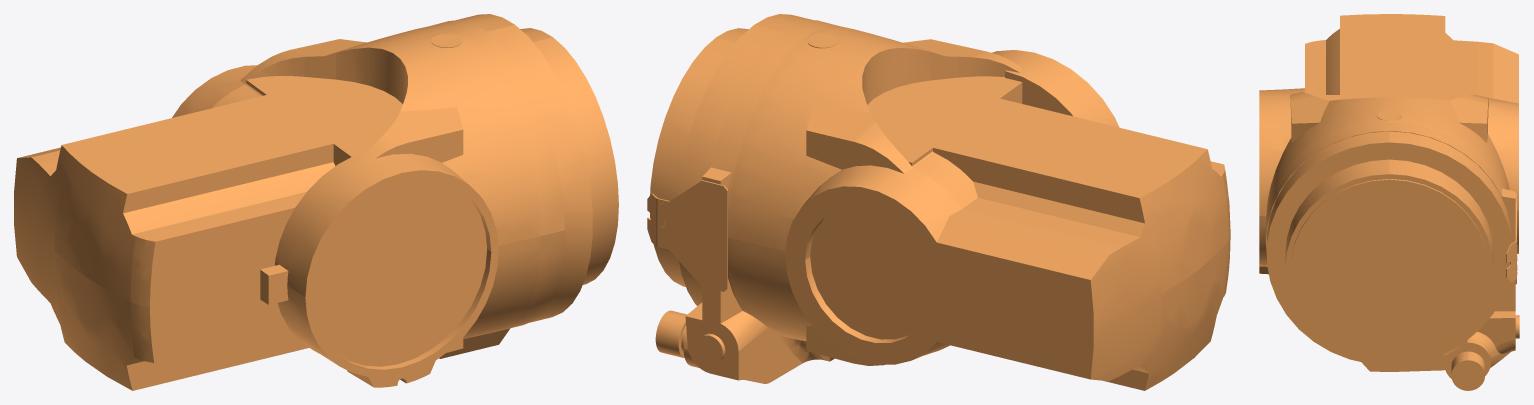
3 renders of one model, left to right at view 1: azimuth 30°, elevation 25°; view 2: azimuth 150°, elevation 25°; view 3: azimuth 270°, elevation 25°, orthographic. The views are drawn at different scales.
Parts seen in each view (by area): view 1: mesh_0; view 2: mesh_0; view 3: mesh_0.
Boxes of the visible parts, x1=… form: mesh_0: x1=14, y1=14, x2=618, y2=390; mesh_0: x1=647, y1=14, x2=1230, y2=390; mesh_0: x1=1259, y1=14, x2=1519, y2=390.
Bounding box in the file's own units: 0.3331 × 0.2045 × 0.2.
